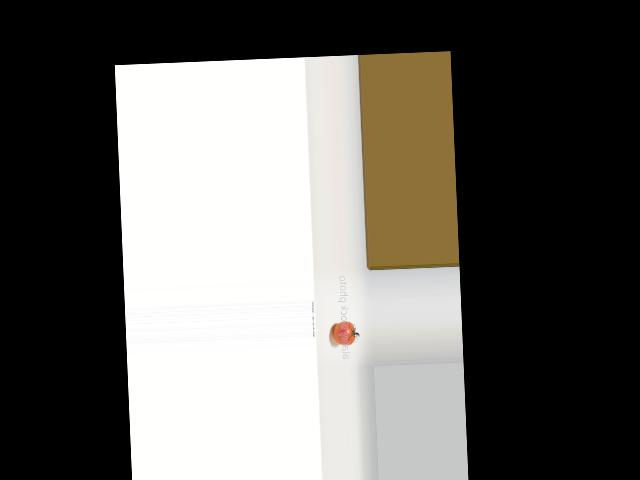tomato: (332, 320, 355, 345)
